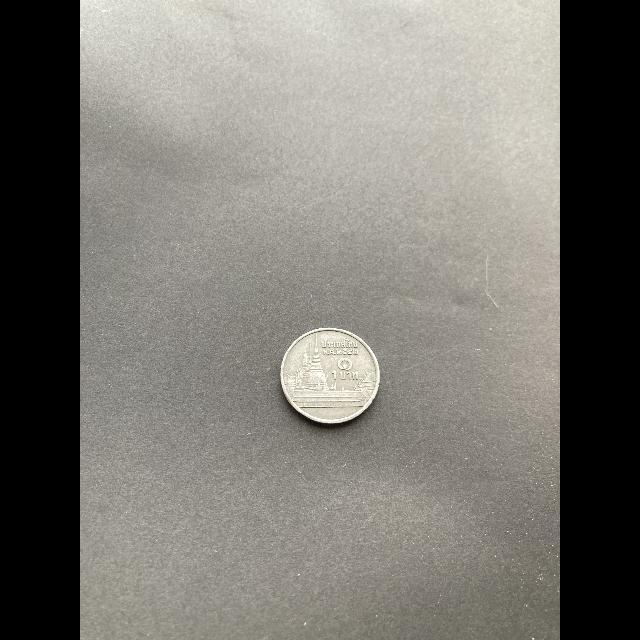1 Bath: (277, 324, 386, 429)
